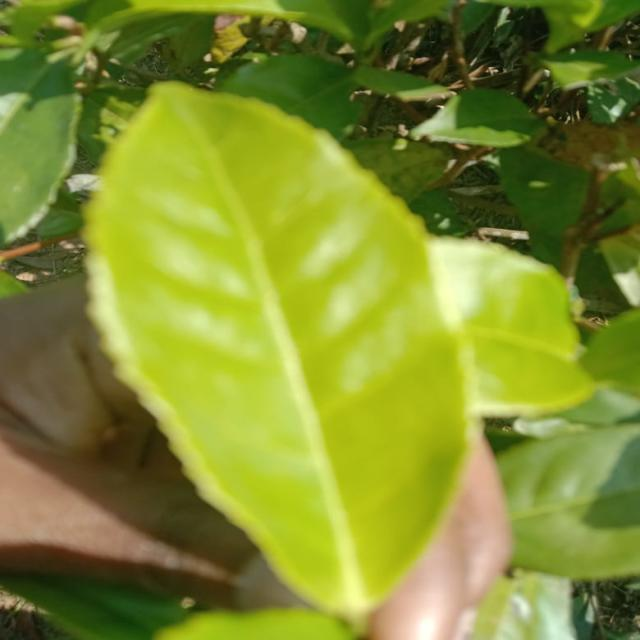Category B 2-4 days: (67, 67, 480, 624)
